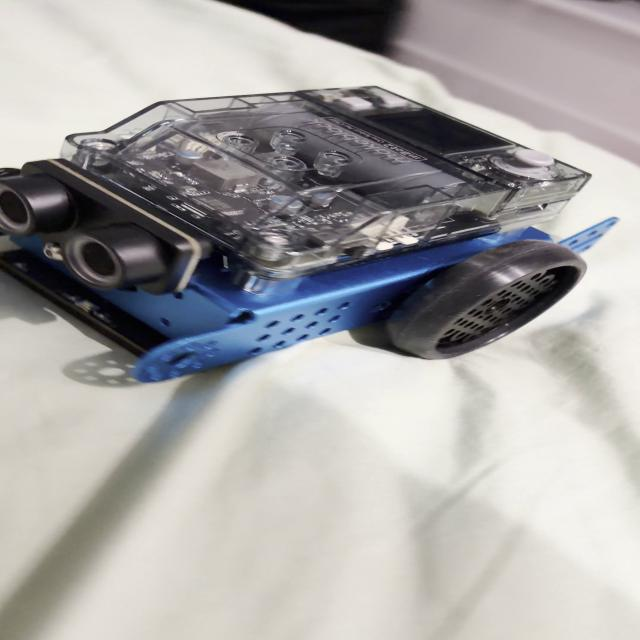mbot-detection: (0, 77, 627, 403)
